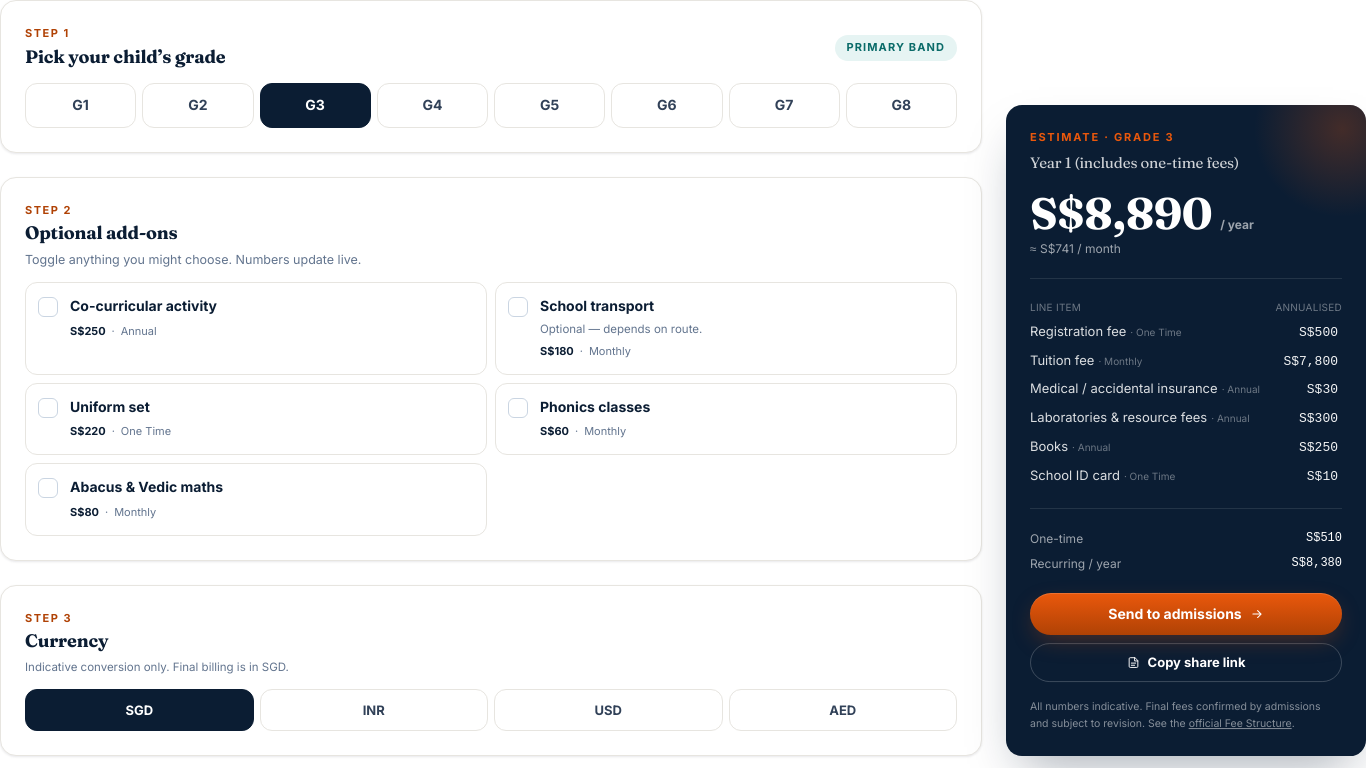
Test case: FeeCalculator › switches grade band when grade 6 is picked
The image size is (1366, 768).
Click the button "G6". click: [667, 106]
box: [611,83,723,128]
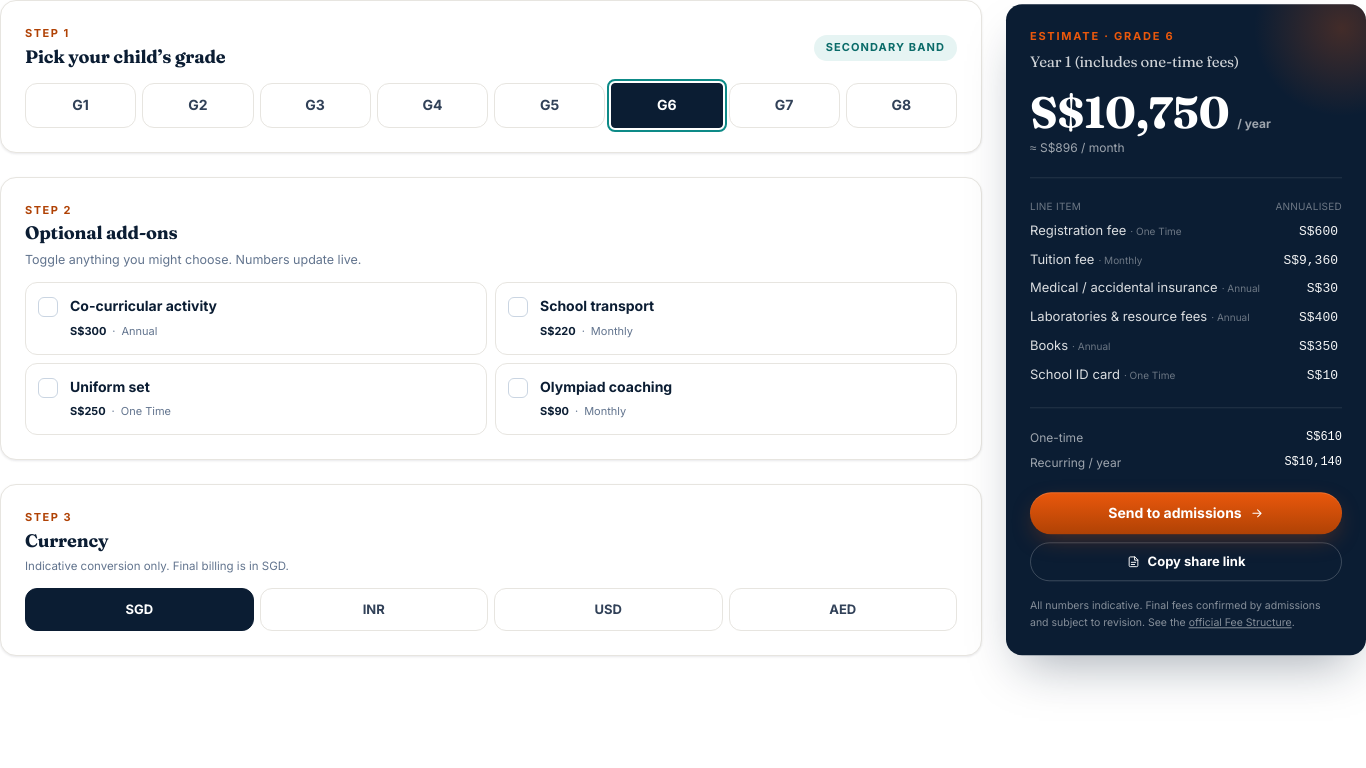
Check: the text "Secondary band" is shown, box [814,35,957,61]
